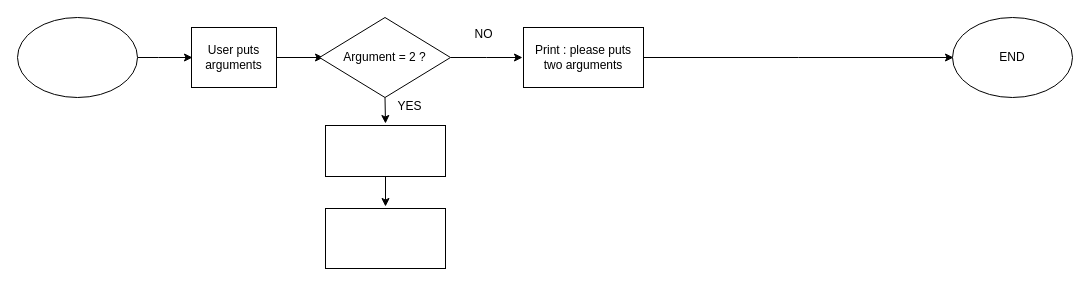
This 1090x286 diagram has some shape labels left out. Each missing label, with the box of its shape:
convert string to data: (324, 124, 446, 176)
START: (16, 16, 138, 98)
